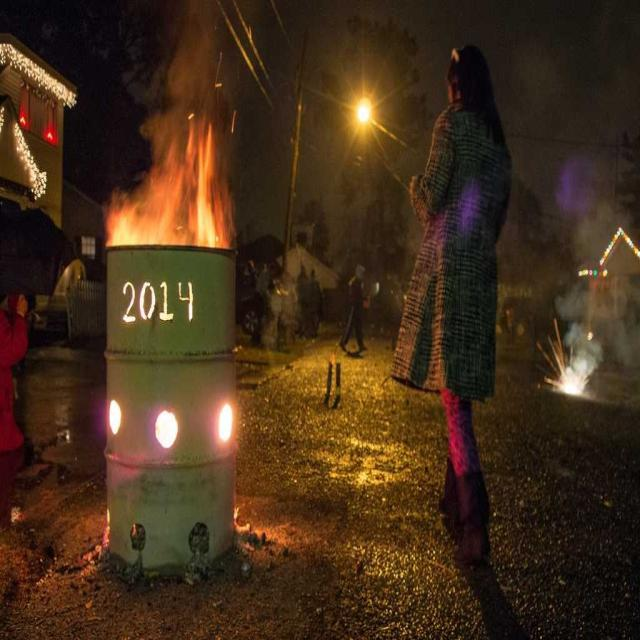Fire: (103, 164, 241, 242), (547, 361, 592, 399), (351, 84, 378, 134)
Smoke: (152, 33, 228, 140)
